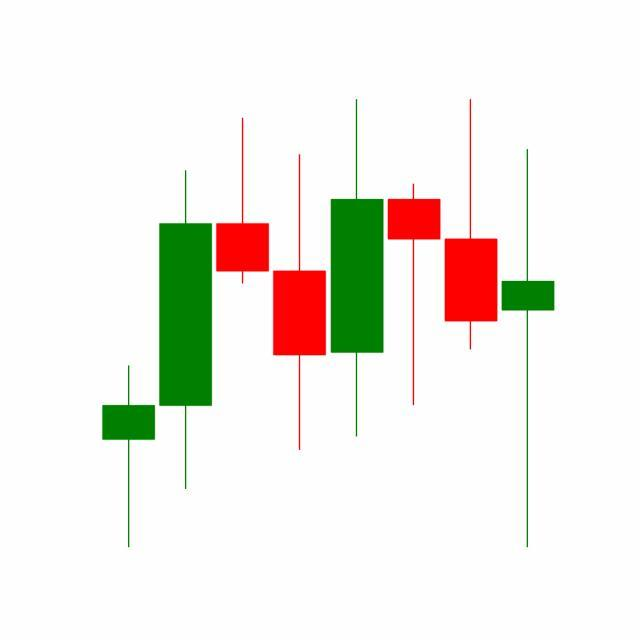Hikkake Pattern: (214, 100, 501, 456)
